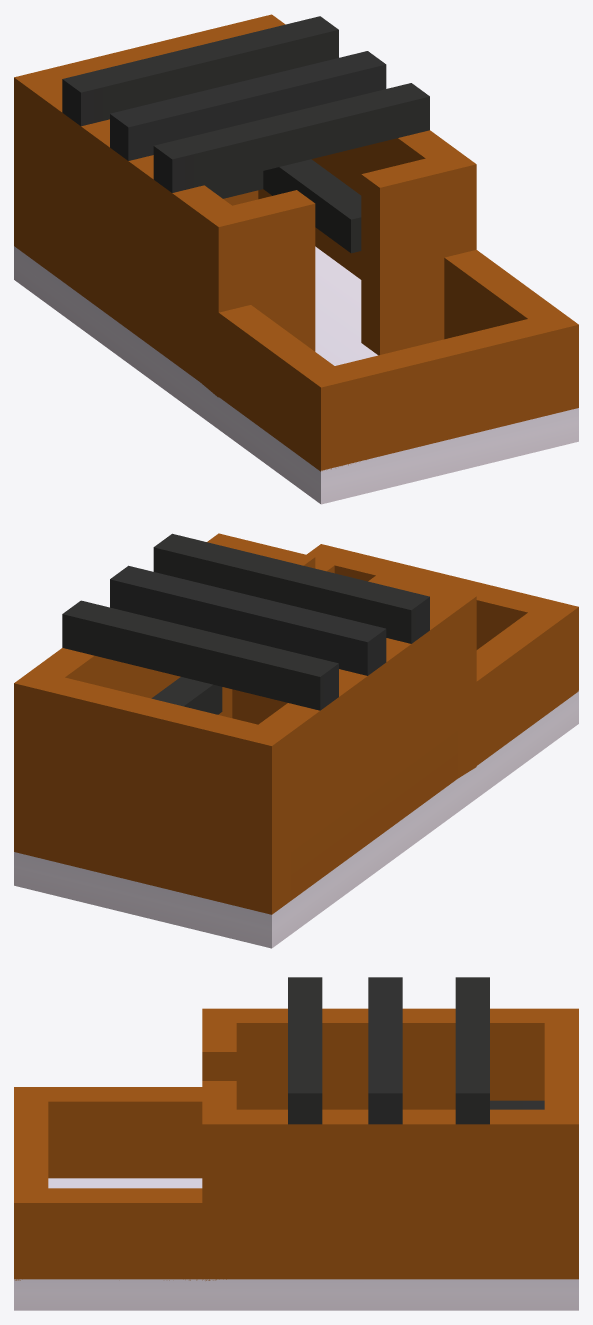
File: sand_box.fbx
3 renders of one model, top to bottom at view 1: azimuth 30°, elevation 25°; view 2: azimuth 150°, elevation 25°; view 3: azimuth 270°, elevation 25°, orthographic. The views are drawn at different scales.
Parts seen in each view (by area): view 1: Cube.001, Cube, Cube.007, Cube.006, Cube.005, Cube.002; view 2: Cube.001, Cube, Cube.006, Cube.005, Cube.007, Cube.002; view 3: Cube.001, Cube, Cube.005, Cube.006, Cube.007, Cube.002.
Part boxes in pixels (box(x1,y1,x2,y2)): Cube.001: box(14, 14, 578, 471); Cube: box(14, 246, 578, 504); Cube.007: box(153, 83, 429, 192); Cube.006: box(62, 16, 338, 126); Cube.005: box(110, 51, 386, 160); Cube.002: box(205, 159, 361, 253); Cube.001: box(14, 533, 578, 914); Cube: box(14, 690, 578, 948); Cube.006: box(62, 600, 338, 710); Cube.005: box(110, 565, 386, 675); Cube.007: box(153, 533, 429, 643); Cube.002: box(151, 677, 222, 714); Cube.001: box(14, 1008, 578, 1280); Cube: box(14, 1178, 578, 1310); Cube.005: box(368, 977, 402, 1124); Cube.006: box(455, 977, 489, 1124); Cube.007: box(288, 977, 322, 1124); Cube.002: box(490, 1100, 544, 1109).
Bounding box in the file's own units: 1600 × 1400 × 3300.
